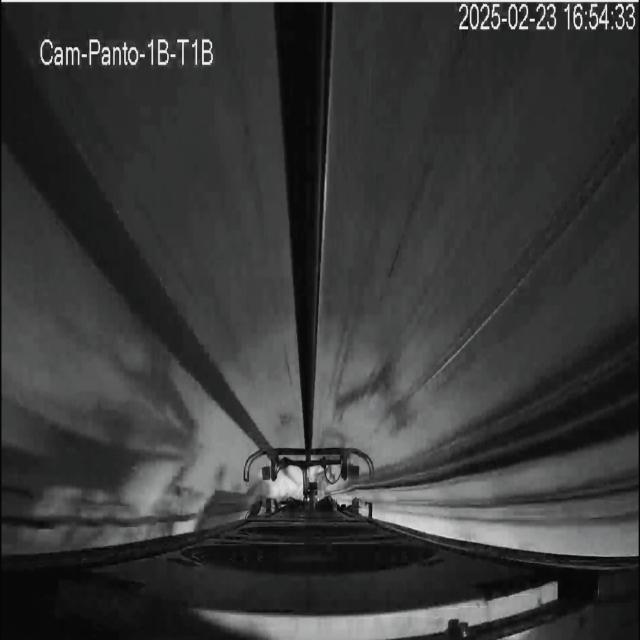Camera Stamp: (35, 28, 217, 71)
Date Stamp: (459, 3, 636, 33)
No - Spark: (169, 454, 483, 607), (287, 363, 394, 494), (118, 440, 213, 537), (243, 447, 335, 511)
